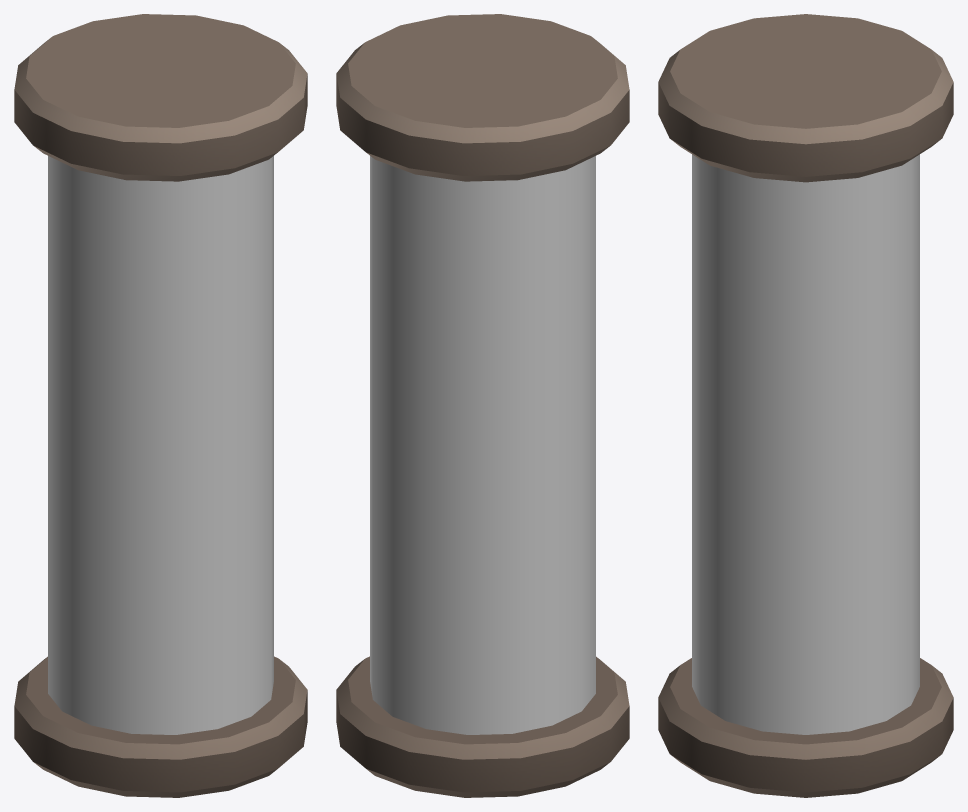
Rendered from hourglass.obj.
3 views of the same model, side by side, from view 1: azimuth 30°, elevation 25°; view 2: azimuth 150°, elevation 25°; view 3: azimuth 270°, elevation 25° (orthographic).
Parts seen in each view (by area): view 1: hourglass; view 2: hourglass; view 3: hourglass.
Part boxes in pixels (bbox=[...]): hourglass: bbox=[14, 14, 307, 797]; hourglass: bbox=[336, 14, 629, 797]; hourglass: bbox=[658, 14, 953, 797].
Size of the model in its own units: 1 by 2.5 by 1.
Materials: 2 (1 with a texture image).
